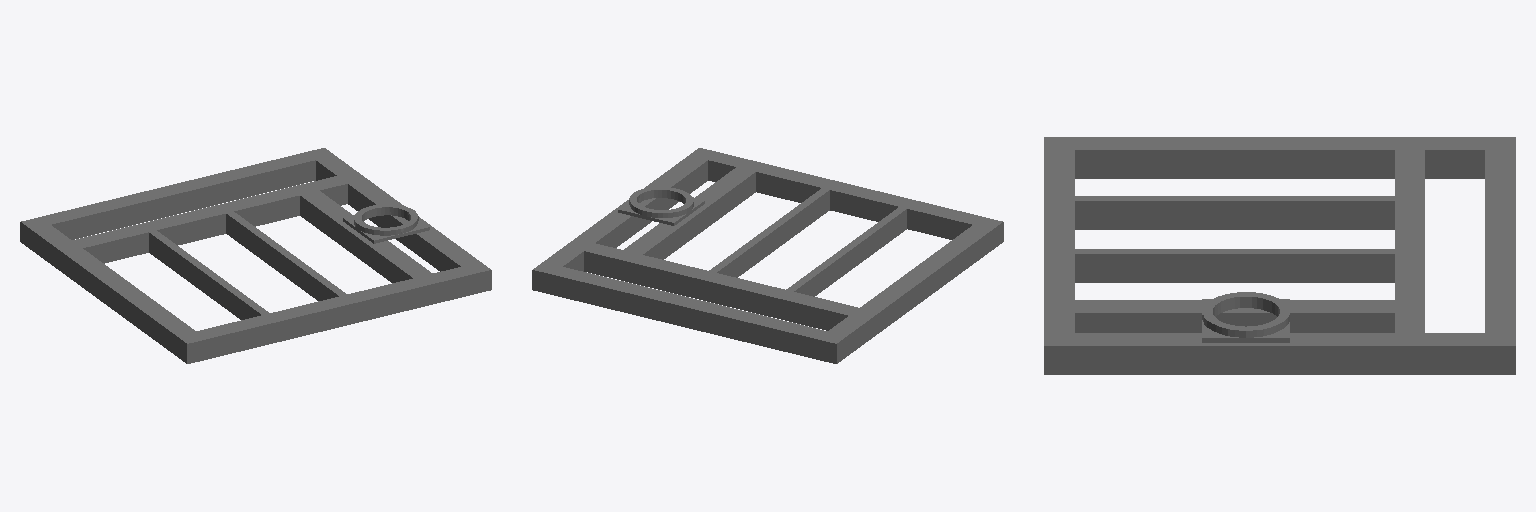
The robot description file, URDF, robot "sigma_cell":
<?xml version="1.0" ?>
<!-- =================================================================================== -->
<!-- |    This document was autogenerated by xacro from sigma_cell.xacro               | -->
<!-- |    EDITING THIS FILE BY HAND IS NOT RECOMMENDED                                 | -->
<!-- =================================================================================== -->
<robot name="sigma_cell">
    <!-- World Reference Frame -->
    <link name="world" />
    <!--
    Base UR robot series xacro macro.

    NOTE: this is NOT a URDF. It cannot directly be loaded by consumers
    expecting a flattened '.urdf' file. See the top-level '.xacro' for that
    (but note: that .xacro must still be processed by the xacro command).

    For use in '.launch' files: use one of the 'load_urX.launch' convenience
    launch files.

    This file models the base kinematic chain of a UR robot, which then gets
    parameterised by various configuration files to convert it into a UR3(e),
    UR5(e), UR10(e) or UR16e.

    NOTE: the default kinematic parameters (ie: link lengths, frame locations,
    offets, etc) do not correspond to any particular robot. They are defaults
    only. There WILL be non-zero offsets between the Forward Kinematics results
    in TF (ie: robot_state_publisher) and the values reported by the Teach
    Pendant.

    For accurate (and robot-specific) transforms, the 'kinematics_parameters_file'
    parameter MUST point to a .yaml file containing the appropriate values for
    the targetted robot.

    If using the UniversalRobots/Universal_Robots_ROS_Driver, follow the steps
    described in the readme of that repository to extract the kinematic
    calibration from the controller and generate the required .yaml file.

    Main author of the migration to yaml configs: [author].

    Contributors to previous versions (in no particular order):

     - [author]
     - [author]
     - [author]
     - [author]
     - [author]
     - [author]
     - [author]
     - [author]
     - [author]
     - [author]
     - [author]
     - [author]
     - [author]
     - [author]
     - [author]
     - [author]
     - [author]
  -->
    <!--
    NOTE: the macro defined in this file is NOT part of the public API of this
          package. Users CANNOT rely on this file being available, or stored in
          this location. Nor can they rely on the existence of the macro.
  -->
    <transmission name="shoulder_pan_trans">
        <type>transmission_interface/SimpleTransmission</type>
        <joint name="shoulder_pan_joint">
            <hardwareInterface>hardware_interface/PositionJointInterface</hardwareInterface>
        </joint>
        <actuator name="shoulder_pan_motor">
            <mechanicalReduction>1</mechanicalReduction>
            <hardwareInterface>hardware_interface/EffortJointInterface</hardwareInterface>
        </actuator>
    </transmission>
    <transmission name="shoulder_lift_trans">
        <type>transmission_interface/SimpleTransmission</type>
        <joint name="shoulder_lift_joint">
            <hardwareInterface>hardware_interface/PositionJointInterface</hardwareInterface>
        </joint>
        <actuator name="shoulder_lift_motor">
            <mechanicalReduction>1</mechanicalReduction>
            <hardwareInterface>hardware_interface/EffortJointInterface</hardwareInterface>
        </actuator>
    </transmission>
    <transmission name="elbow_trans">
        <type>transmission_interface/SimpleTransmission</type>
        <joint name="elbow_joint">
            <hardwareInterface>hardware_interface/PositionJointInterface</hardwareInterface>
        </joint>
        <actuator name="elbow_motor">
            <mechanicalReduction>1</mechanicalReduction>
            <hardwareInterface>hardware_interface/EffortJointInterface</hardwareInterface>
        </actuator>
    </transmission>
    <transmission name="wrist_1_trans">
        <type>transmission_interface/SimpleTransmission</type>
        <joint name="wrist_1_joint">
            <hardwareInterface>hardware_interface/PositionJointInterface</hardwareInterface>
        </joint>
        <actuator name="wrist_1_motor">
            <mechanicalReduction>1</mechanicalReduction>
            <hardwareInterface>hardware_interface/EffortJointInterface</hardwareInterface>
        </actuator>
    </transmission>
    <transmission name="wrist_2_trans">
        <type>transmission_interface/SimpleTransmission</type>
        <joint name="wrist_2_joint">
            <hardwareInterface>hardware_interface/PositionJointInterface</hardwareInterface>
        </joint>
        <actuator name="wrist_2_motor">
            <mechanicalReduction>1</mechanicalReduction>
            <hardwareInterface>hardware_interface/EffortJointInterface</hardwareInterface>
        </actuator>
    </transmission>
    <transmission name="wrist_3_trans">
        <type>transmission_interface/SimpleTransmission</type>
        <joint name="wrist_3_joint">
            <hardwareInterface>hardware_interface/PositionJointInterface</hardwareInterface>
        </joint>
        <actuator name="wrist_3_motor">
            <mechanicalReduction>1</mechanicalReduction>
            <hardwareInterface>hardware_interface/EffortJointInterface</hardwareInterface>
        </actuator>
    </transmission>
    <!-- links: main serial chain -->
    <link name="base_link" />
    <link name="base_link_inertia">
        <visual>
            <origin rpy="0 0 3.141592653589793" xyz="0 0 0" />
            <geometry>
                <mesh filename="package://ur_description/meshes/ur3e/visual/base.dae" />
            </geometry>
            <material name="LightGrey">
                <color rgba="0.7 0.7 0.7 1.0" />
            </material>
        </visual>
        <collision>
            <origin rpy="0 0 3.141592653589793" xyz="0 0 0" />
            <geometry>
                <mesh filename="package://ur_description/meshes/ur3e/collision/base.stl" />
            </geometry>
        </collision>
        <inertial>
            <mass value="2.0" />
            <origin rpy="0 0 0" xyz="0 0 0" />
            <inertia ixx="0.0030531654454" ixy="0.0" ixz="0.0" iyy="0.0030531654454" iyz="0.0" izz="0.005625" />
        </inertial>
    </link>
    <link name="shoulder_link">
        <visual>
            <origin rpy="0 0 3.141592653589793" xyz="0 0 0" />
            <geometry>
                <mesh filename="package://ur_description/meshes/ur3e/visual/shoulder.dae" />
            </geometry>
            <material name="LightGrey">
                <color rgba="0.7 0.7 0.7 1.0" />
            </material>
        </visual>
        <collision>
            <origin rpy="0 0 3.141592653589793" xyz="0 0 0" />
            <geometry>
                <mesh filename="package://ur_description/meshes/ur3e/collision/shoulder.stl" />
            </geometry>
        </collision>
        <inertial>
            <mass value="2.0" />
            <origin rpy="0 0 0" xyz="0 0 0" />
            <inertia ixx="0.008093163429399999" ixy="0.0" ixz="0.0" iyy="0.008093163429399999" iyz="0.0" izz="0.005625" />
        </inertial>
    </link>
    <link name="upper_arm_link">
        <visual>
            <origin rpy="1.5707963267948966 0 -1.5707963267948966" xyz="0 0 0.12" />
            <geometry>
                <mesh filename="package://ur_description/meshes/ur3e/visual/upperarm.dae" />
            </geometry>
            <material name="LightGrey">
                <color rgba="0.7 0.7 0.7 1.0" />
            </material>
        </visual>
        <collision>
            <origin rpy="1.5707963267948966 0 -1.5707963267948966" xyz="0 0 0.12" />
            <geometry>
                <mesh filename="package://ur_description/meshes/ur3e/collision/upperarm.stl" />
            </geometry>
        </collision>
        <inertial>
            <mass value="3.42" />
            <origin rpy="0 1.5707963267948966 0" xyz="-0.121825 0.0 0.12" />
            <inertia ixx="0.021728483221103233" ixy="0.0" ixz="0.0" iyy="0.021728483221103233" iyz="0.0" izz="0.00961875" />
        </inertial>
    </link>
    <link name="forearm_link">
        <visual>
            <origin rpy="1.5707963267948966 0 -1.5707963267948966" xyz="0 0 0.027" />
            <geometry>
                <mesh filename="package://ur_description/meshes/ur3e/visual/forearm.dae" />
            </geometry>
            <material name="LightGrey">
                <color rgba="0.7 0.7 0.7 1.0" />
            </material>
        </visual>
        <collision>
            <origin rpy="1.5707963267948966 0 -1.5707963267948966" xyz="0 0 0.027" />
            <geometry>
                <mesh filename="package://ur_description/meshes/ur3e/collision/forearm.stl" />
            </geometry>
        </collision>
        <inertial>
            <mass value="1.26" />
            <origin rpy="0 1.5707963267948966 0" xyz="-0.1066 0.0 0.027" />
            <inertia ixx="0.0065445675821719194" ixy="0.0" ixz="0.0" iyy="0.0065445675821719194" iyz="0.0" izz="0.00354375" />
        </inertial>
    </link>
    <link name="wrist_1_link">
        <visual>
            <!-- TODO: Move this to a parameter -->
            <origin rpy="1.5707963267948966 0 0" xyz="0 0 -0.104" />
            <geometry>
                <mesh filename="package://ur_description/meshes/ur3e/visual/wrist1.dae" />
            </geometry>
            <material name="LightGrey">
                <color rgba="0.7 0.7 0.7 1.0" />
            </material>
        </visual>
        <collision>
            <origin rpy="1.5707963267948966 0 0" xyz="0 0 -0.104" />
            <geometry>
                <mesh filename="package://ur_description/meshes/ur3e/collision/wrist1.stl" />
            </geometry>
        </collision>
        <inertial>
            <mass value="0.8" />
            <origin rpy="0 0 0" xyz="0 0 0" />
            <inertia ixx="0.002084999166" ixy="0.0" ixz="0.0" iyy="0.002084999166" iyz="0.0" izz="0.00225" />
        </inertial>
    </link>
    <link name="wrist_2_link">
        <visual>
            <origin rpy="0 0 0" xyz="0 0 -0.08535" />
            <geometry>
                <mesh filename="package://ur_description/meshes/ur3e/visual/wrist2.dae" />
            </geometry>
            <material name="LightGrey">
                <color rgba="0.7 0.7 0.7 1.0" />
            </material>
        </visual>
        <collision>
            <origin rpy="0 0 0" xyz="0 0 -0.08535" />
            <geometry>
                <mesh filename="package://ur_description/meshes/ur3e/collision/wrist2.stl" />
            </geometry>
        </collision>
        <inertial>
            <mass value="0.8" />
            <origin rpy="0 0 0" xyz="0 0 0" />
            <inertia ixx="0.002084999166" ixy="0.0" ixz="0.0" iyy="0.002084999166" iyz="0.0" izz="0.00225" />
        </inertial>
    </link>
    <link name="wrist_3_link">
        <visual>
            <origin rpy="1.5707963267948966 0 0" xyz="0 0 -0.0921" />
            <geometry>
                <mesh filename="package://ur_description/meshes/ur3e/visual/wrist3.dae" />
            </geometry>
            <material name="LightGrey">
                <color rgba="0.7 0.7 0.7 1.0" />
            </material>
        </visual>
        <collision>
            <origin rpy="1.5707963267948966 0 0" xyz="0 0 -0.0921" />
            <geometry>
                <mesh filename="package://ur_description/meshes/ur3e/collision/wrist3.stl" />
            </geometry>
        </collision>
        <inertial>
            <mass value="0.35" />
            <origin rpy="0 0 0" xyz="0.0 0.0 -0.02" />
            <inertia ixx="0.00013626661215999998" ixy="0.0" ixz="0.0" iyy="0.00013626661215999998" iyz="0.0" izz="0.0001792" />
        </inertial>
    </link>
    <!-- joints: main serial chain -->
    <joint name="base_link-base_link_inertia" type="fixed">
        <parent link="base_link" />
        <child link="base_link_inertia" />
        <!-- 'base_link' is REP-103 aligned (so X+ forward), while the internal
           frames of the robot/controller have X+ pointing backwards.
           Use the joint between 'base_link' and 'base_link_inertia' (a dummy
           link/frame) to introduce the necessary rotation over Z (of pi rad).
      -->
        <origin rpy="0 0 3.141592653589793" xyz="0 0 0" />
    </joint>
    <joint name="shoulder_pan_joint" type="revolute">
        <parent link="base_link_inertia" />
        <child link="shoulder_link" />
        <origin rpy="0 0 0" xyz="0 0 0.15185" />
        <axis xyz="0 0 1" />
        <limit effort="56.0" lower="-6.283185307179586" upper="6.283185307179586" velocity="3.141592653589793" />
        <dynamics damping="0" friction="0" />
    </joint>
    <joint name="shoulder_lift_joint" type="revolute">
        <parent link="shoulder_link" />
        <child link="upper_arm_link" />
        <origin rpy="1.570796327 0 0" xyz="0 0 0" />
        <axis xyz="0 0 1" />
        <limit effort="56.0" lower="-6.283185307179586" upper="6.283185307179586" velocity="3.141592653589793" />
        <dynamics damping="0" friction="0" />
    </joint>
    <joint name="elbow_joint" type="revolute">
        <parent link="upper_arm_link" />
        <child link="forearm_link" />
        <origin rpy="0 0 0" xyz="-0.24355 0 0" />
        <axis xyz="0 0 1" />
        <limit effort="28.0" lower="-3.141592653589793" upper="3.141592653589793" velocity="3.141592653589793" />
        <dynamics damping="0" friction="0" />
    </joint>
    <joint name="wrist_1_joint" type="revolute">
        <parent link="forearm_link" />
        <child link="wrist_1_link" />
        <origin rpy="0 0 0" xyz="-0.2132 0 0.13105" />
        <axis xyz="0 0 1" />
        <limit effort="12.0" lower="-6.283185307179586" upper="6.283185307179586" velocity="6.283185307179586" />
        <dynamics damping="0" friction="0" />
    </joint>
    <joint name="wrist_2_joint" type="revolute">
        <parent link="wrist_1_link" />
        <child link="wrist_2_link" />
        <origin rpy="1.570796327 0 0" xyz="0 -0.08535 -1.750557762378351e-11" />
        <axis xyz="0 0 1" />
        <limit effort="12.0" lower="-6.283185307179586" upper="6.283185307179586" velocity="6.283185307179586" />
        <dynamics damping="0" friction="0" />
    </joint>
    <joint name="wrist_3_joint" type="revolute">
        <parent link="wrist_2_link" />
        <child link="wrist_3_link" />
        <origin rpy="1.570796326589793 3.141592653589793 3.141592653589793" xyz="0 0.0921 -1.8890025766262e-11" />
        <axis xyz="0 0 1" />
        <limit effort="12.0" lower="-6.283185307179586" upper="6.283185307179586" velocity="6.283185307179586" />
        <dynamics damping="0" friction="0" />
    </joint>
    <!-- ROS-Industrial 'base' frame: base_link to UR 'Base' Coordinates transform -->
    <link name="base" />
    <joint name="base_link-base_fixed_joint" type="fixed">
        <!-- Note the rotation over Z of pi radians: as base_link is REP-103
           aligned (ie: has X+ forward, Y+ left and Z+ up), this is needed
           to correctly align 'base' with the 'Base' coordinate system of
           the UR controller.
      -->
        <origin rpy="0 0 3.141592653589793" xyz="0 0 0" />
        <parent link="base_link" />
        <child link="base" />
    </joint>
    <!-- ROS-Industrial 'flange' frame: attachment point for EEF models -->
    <link name="flange" />
    <joint name="wrist_3-flange" type="fixed">
        <parent link="wrist_3_link" />
        <child link="flange" />
        <origin rpy="0 -1.5707963267948966 -1.5707963267948966" xyz="0 0 0" />
    </joint>
    <!-- ROS-Industrial 'tool0' frame: all-zeros tool frame -->
    <link name="tool0" />
    <joint name="flange-tool0" type="fixed">
        <!-- default toolframe: X+ left, Y+ up, Z+ front -->
        <origin rpy="1.5707963267948966 0 1.5707963267948966" xyz="0 0 0" />
        <parent link="flange" />
        <child link="tool0" />
    </joint>
    <!-- Base joint -->
    <joint name="base_joint" type="fixed">
        <parent link="world" />
        <child link="base_link" />
        <origin rpy="0 0 0" xyz="0 0 0" />
    </joint>
    <material name="silver">
        <color rgba="0.700 0.700 0.700 1.000" />
    </material>
    <gazebo reference="gripper_base_link">
        <material>Gazebo/Grey</material>
        <implicitSpringDamper>1</implicitSpringDamper>
        <mu1>0.2</mu1>
        <mu2>0.2</mu2>
        <kp>100000000.0</kp>
        <kd>1.0</kd>
        <selfCollide>true</selfCollide>
        <gravity>true</gravity>
        <plugin name="gazebo_ros_control">
            <robotNamespace>/</robotNamespace>
        </plugin>
    </gazebo>
    <gazebo reference="right_finger_link">
        <material>Gazebo/Grey</material>
        <implicitSpringDamper>1</implicitSpringDamper>
        <mu1>0.2</mu1>
        <mu2>0.2</mu2>
        <kp>100000000.0</kp>
        <kd>1.0</kd>
        <selfCollide>true</selfCollide>
    </gazebo>
    <gazebo reference="left_finger_link">
        <material>Gazebo/Grey</material>
        <implicitSpringDamper>1</implicitSpringDamper>
        <mu1>0.2</mu1>
        <mu2>0.2</mu2>
        <kp>100000000.0</kp>
        <kd>1.0</kd>
        <selfCollide>true</selfCollide>
    </gazebo>
    <transmission name="left_finger_joint_tran">
        <type>transmission_interface/SimpleTransmission</type>
        <joint name="left_finger_joint">
            <hardwareInterface>hardware_interface/PositionJointInterface</hardwareInterface>
        </joint>
        <actuator name="left_finger_joint_motor">
            <hardwareInterface>hardware_interface/PositionJointInterface</hardwareInterface>
            <mechanicalReduction>1</mechanicalReduction>
        </actuator>
    </transmission>
    <link name="gripper_base_link">
        <inertial>
            <origin rpy="0 0 0" xyz="-4.8989159583623376e-05 2.847569602502098e-06 0.06811082379775064" />
            <mass value="1.2646523179240972" />
            <inertia ixx="0.001504" ixy="-0.0" ixz="-3e-06" iyy="0.001812" iyz="0.0" izz="0.001053" />
        </inertial>
        <visual>
            <origin rpy="0 0 0" xyz="0 0 0" />
            <geometry>
                <mesh filename="package://onrobot_2fg7_description/meshes/base_link.stl" scale="0.001 0.001 0.001" />
            </geometry>
            <material name="silver" />
        </visual>
        <collision>
            <origin rpy="0 0 0" xyz="0 0 0" />
            <geometry>
                <mesh filename="package://onrobot_2fg7_description/meshes/base_link.stl" scale="0.001 0.001 0.001" />
            </geometry>
        </collision>
    </link>
    <link name="gripper_right_finger_link">
        <inertial>
            <origin rpy="0 0 0" xyz="0.029847703322119633 0.029496959480087837 0.015234215486232036" />
            <mass value="0.023219383355922288" />
            <inertia ixx="6e-06" ixy="-0.0" ixz="-1e-06" iyy="5e-06" iyz="0.0" izz="2e-06" />
        </inertial>
        <visual>
            <origin rpy="0 0 0" xyz="0.054361 0.029494 -0.12005" />
            <geometry>
                <mesh filename="package://onrobot_2fg7_description/meshes/inwards/right_finger_link.stl" scale="0.001 0.001 0.001" />
            </geometry>
            <material name="silver" />
        </visual>
        <collision>
            <origin rpy="0 0 0" xyz="0.054361 0.029494 -0.12005" />
            <geometry>
                <mesh filename="package://onrobot_2fg7_description/meshes/inwards/right_finger_link.stl" scale="0.001 0.001 0.001" />
            </geometry>
        </collision>
    </link>
    <link name="gripper_left_finger_link">
        <inertial>
            <origin rpy="0 0 0" xyz="-0.007725703322151688 0.029491040519911117 0.015234215486238503" />
            <mass value="0.023219383355922288" />
            <inertia ixx="6e-06" ixy="-0.0" ixz="1e-06" iyy="5e-06" iyz="-0.0" izz="2e-06" />
        </inertial>
        <visual>
            <origin rpy="0 0 0" xyz="-0.032239 0.029494 -0.12005" />
            <geometry>
                <mesh filename="package://onrobot_2fg7_description/meshes/inwards/left_finger_link.stl" scale="0.001 0.001 0.001" />
            </geometry>
            <material name="silver" />
        </visual>
        <collision>
            <origin rpy="0 0 0" xyz="-0.032239 0.029494 -0.12005" />
            <geometry>
                <mesh filename="package://onrobot_2fg7_description/meshes/inwards/left_finger_link.stl" scale="0.001 0.001 0.001" />
            </geometry>
        </collision>
    </link>
    <joint name="left_finger_joint" type="prismatic">
        <origin rpy="0 0 0" xyz="0.032239 -0.029494 0.12005" />
        <parent link="gripper_base_link" />
        <child link="gripper_left_finger_link" />
        <axis xyz="-1.0 0.0 0.0" />
        <limit effort="100" lower="0.019" upper="0.0" velocity="0.45" />
    </joint>
    <joint name="right_finger_joint" type="prismatic">
        <origin rpy="0 0 0" xyz="-0.054361 -0.029494 0.12005" />
        <parent link="gripper_base_link" />
        <child link="gripper_right_finger_link" />
        <axis xyz="1.0 0.0 0.0" />
        <limit effort="100" lower="-0.019" upper="0.019" velocity="0.45" />
        <mimic joint="left_finger_joint" multiplier="1.0" />
    </joint>
    <!-- Gripper base joint -->
    <joint name="gripper_base_joint" type="fixed">
        <parent link="tool0" />
        <child link="gripper_base_link" />
        <origin rpy="0 0 0" xyz="0 0 0" />
    </joint>
    <!-- Gripper link with STL visualization -->
    <link name="cell_link">
        <visual>
            <origin rpy="0 0 0" xyz="0 0 0" />
            <geometry>
                <mesh filename="package://support/meshes/support_robot.stl" />
            </geometry>
            <material name="cell">
                <color rgba="0.5 0.5 0.5 1.0" />
            </material>
        </visual>
        <collision>
            <origin rpy="0 0 0" xyz="0 0 0" />
            <geometry>
                <mesh filename="package://support/meshes/support_robot.stl" />
            </geometry>
        </collision>
        <inertial>
            <mass value="0.1" />
            <origin xyz="0 0 0" rpy="0 0 0" />
            <inertia ixx="0.03" iyy="0.03" izz="0.03" ixy="0.0" ixz="0.0" iyz="0.0" />
        </inertial>
    </link>
    <!-- Cell joint -->
    <joint name="cell_joint" type="fixed">
        <parent link="world" />
        <child link="cell_link" />
        <origin rpy="0 0 0" xyz="0 0 0" />
    </joint>
    <transmission name="trans_right_finger_joint">
        <type>transmission_interface/SimpleTransmission</type>
        <joint name="right_finger_joint">
            <hardwareInterface>hardware_interface/EffortJointInterface</hardwareInterface>
        </joint>
        <actuator name="right_finger_joint_motor">
            <hardwareInterface>hardware_interface/EffortJointInterface</hardwareInterface>
            <mechanicalReduction>1</mechanicalReduction>
        </actuator>
    </transmission>
</robot>

--- What the picture shows (computed from the rendered views, not written in the file) ---
The picture shows the robot from 3 angles, left to right: view 1: azimuth 30°, elevation 25°; view 2: azimuth 150°, elevation 25°; view 3: azimuth 270°, elevation 25°; orthographic projection.
Model sigma_cell with 16 links and 15 joints (6 revolute, 2 prismatic, 7 fixed), rooted at world, posed all joints at 0.
Visible links, largest first — view 1: cell_link; view 2: cell_link; view 3: cell_link.
Link boxes in pixels (left/top/right/bottom): cell_link: left=20, top=148, right=491, bottom=363; cell_link: left=532, top=148, right=1003, bottom=363; cell_link: left=1044, top=137, right=1515, bottom=374.
Size in the robot's own frame: 0.7 by 0.666 by 0.063 metres.
Meshes: 11 distinct files referenced, 1 mesh visuals loaded (1 binary STL); not drawn: 10 (reference not matched to a file when rendering).